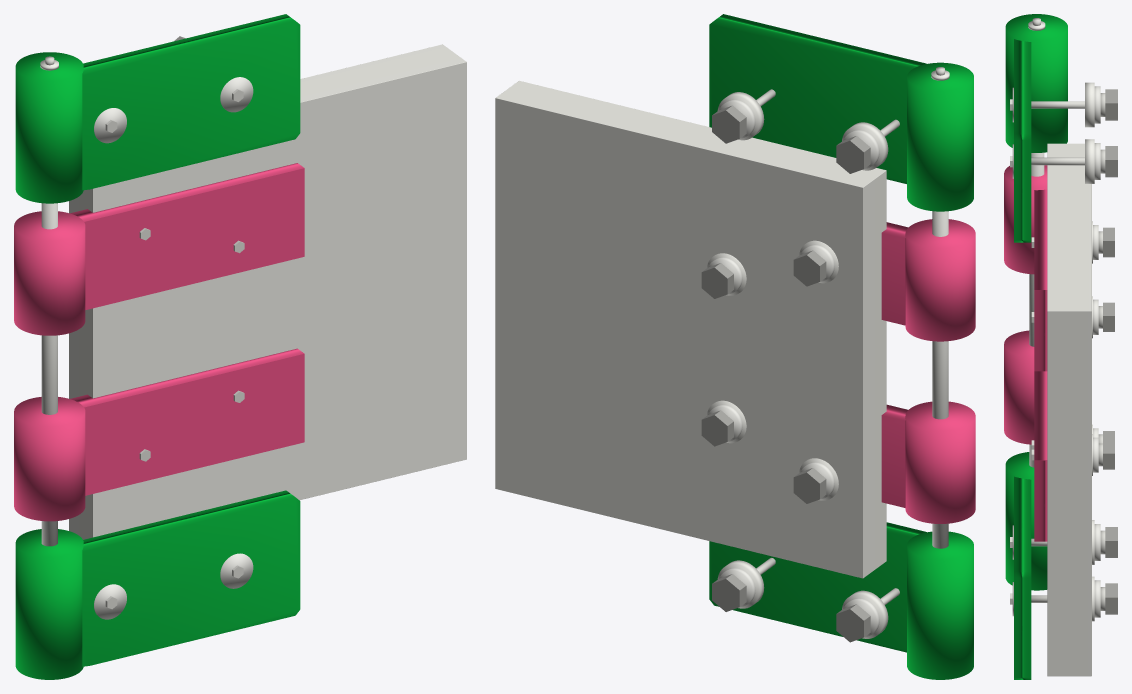
Rendered from openscad_door-hinge.glb.
The picture shows the model from 3 angles, left to right: view 1: azimuth 30°, elevation 25°; view 2: azimuth 150°, elevation 25°; view 3: azimuth 270°, elevation 25°; orthographic projection. The views are drawn at different scales.
Parts seen in each view (by area): view 1: object; view 2: object; view 3: object.
Part boxes in pixels (bbox=[...]): object: bbox=[14, 14, 466, 679]; object: bbox=[495, 14, 975, 679]; object: bbox=[1004, 14, 1117, 679].
Size of the model in its own units: 22.93 by 29.48 by 5.42.
